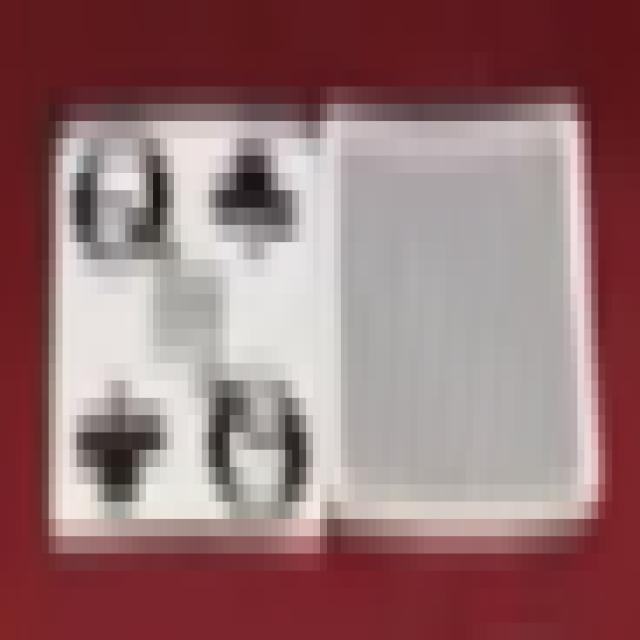Card-Q: (53, 121, 319, 558)
